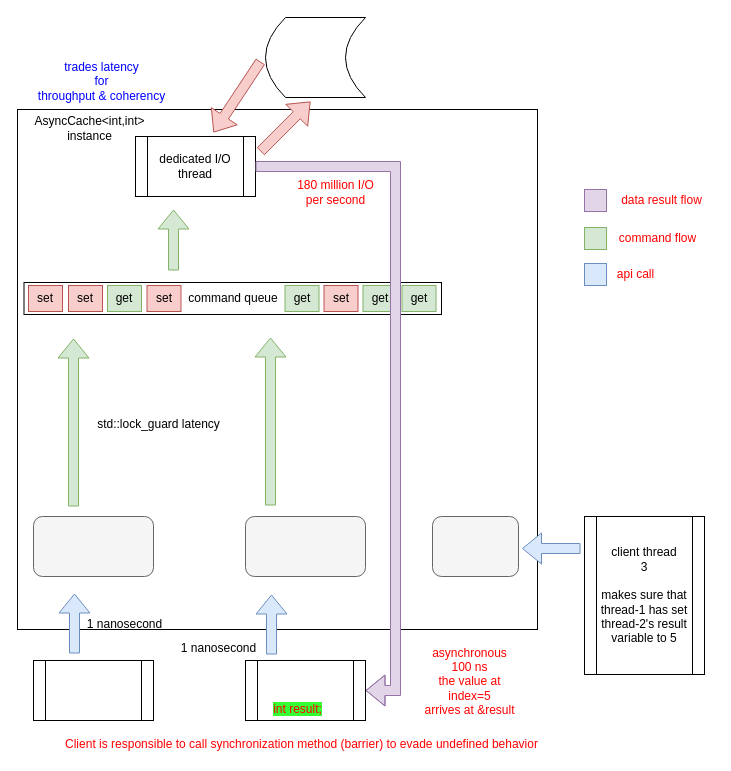
This 731x771 diagram has some shape labels left out. The box of each missing label's shape, as (x1, y1, x2, y2) in pixels:
Backing Store: (264, 16, 366, 98)
barrier(slot): (432, 516, 518, 576)
client thread 1: (32, 660, 154, 720)
client thread 2: (244, 660, 366, 720)
get(5,&result,slot): (244, 516, 366, 576)
set(5,100,slot): (32, 516, 154, 576)
